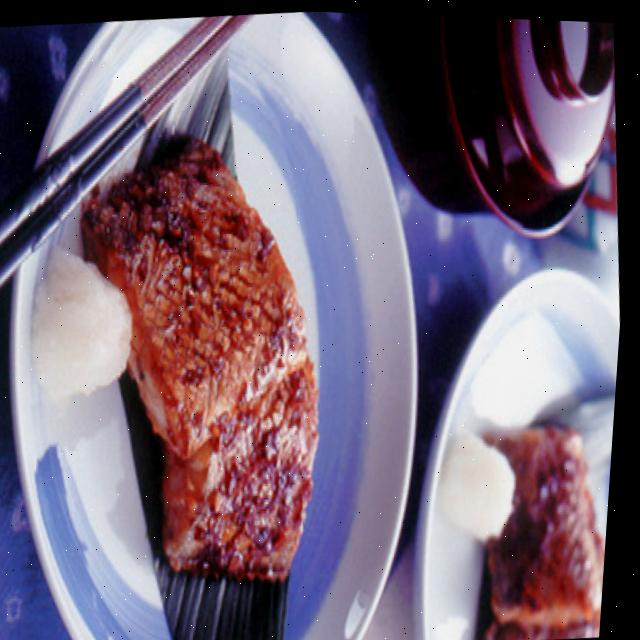熟制海鲜: (53, 112, 398, 624)
